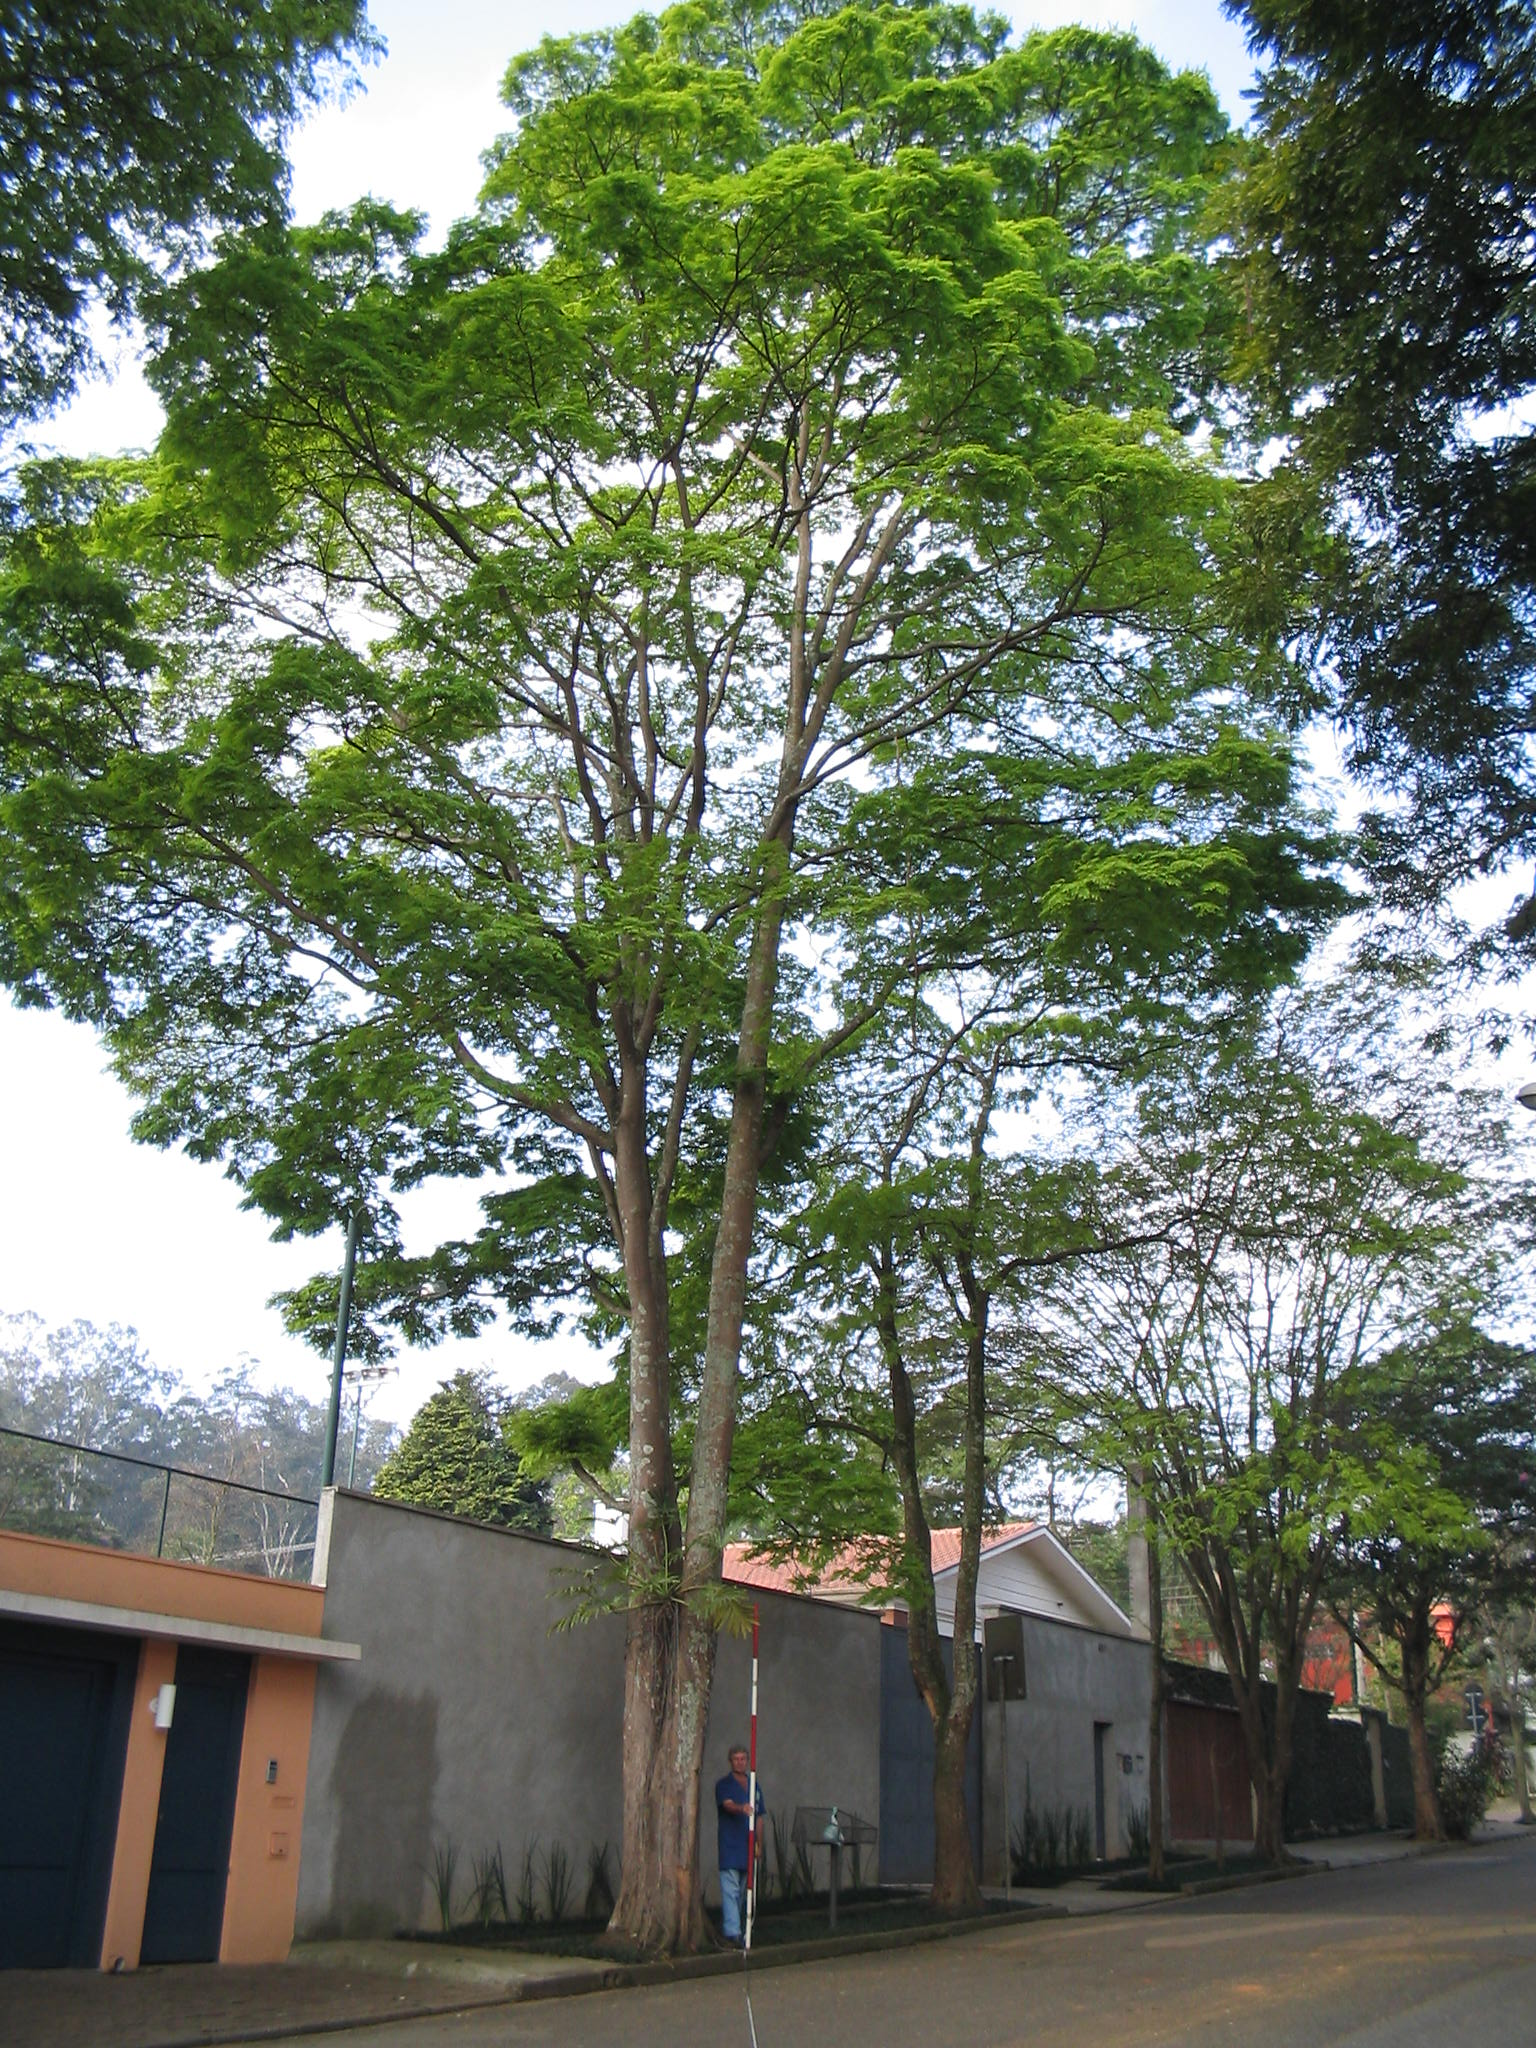crown: (11, 11, 1371, 1397)
stem: (574, 1767, 729, 1954), (892, 1724, 1025, 1908), (1386, 1700, 1483, 1840), (1221, 1767, 1307, 1866)
stick: (721, 1608, 779, 1954)
tree: (6, 8, 1383, 1967), (758, 1024, 1165, 1911), (995, 1118, 1471, 1863), (1329, 1324, 1536, 1843)
